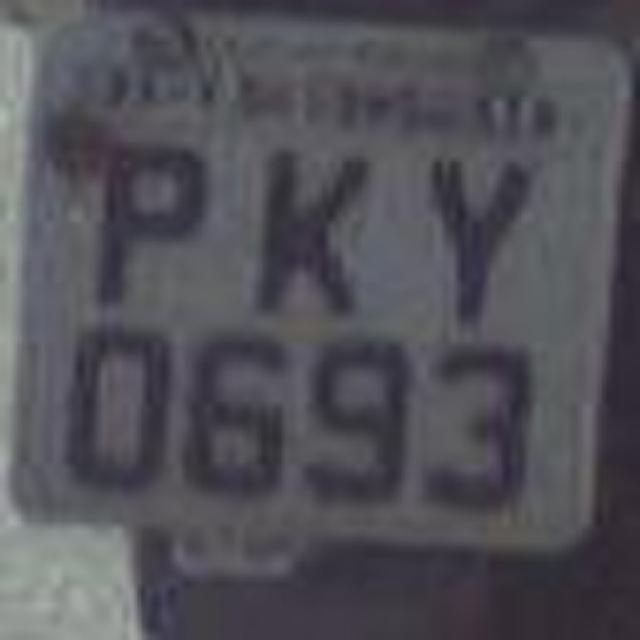0: (44, 304, 196, 516)
3: (405, 320, 560, 520)
6: (164, 316, 308, 524)
9: (296, 324, 429, 516)
P: (84, 132, 208, 328)
Y: (408, 132, 532, 320)
